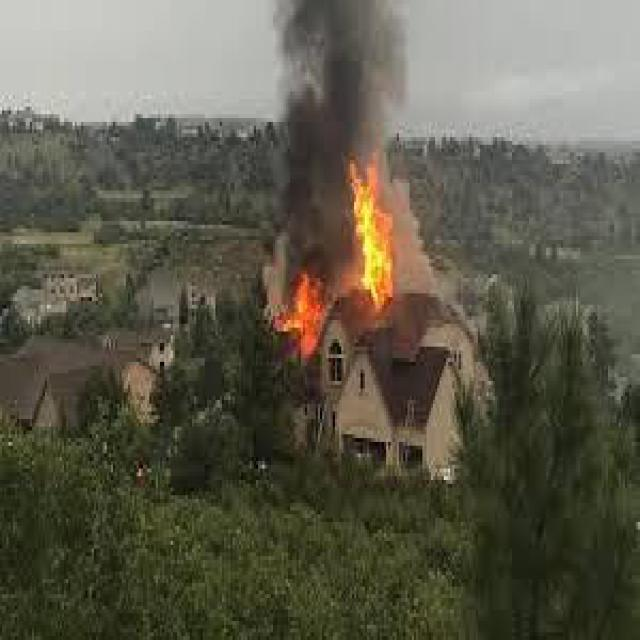fire: (259, 260, 334, 367)
